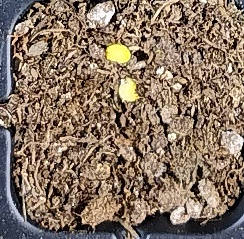pepper seed: (47, 26, 187, 129), (40, 12, 172, 76)
